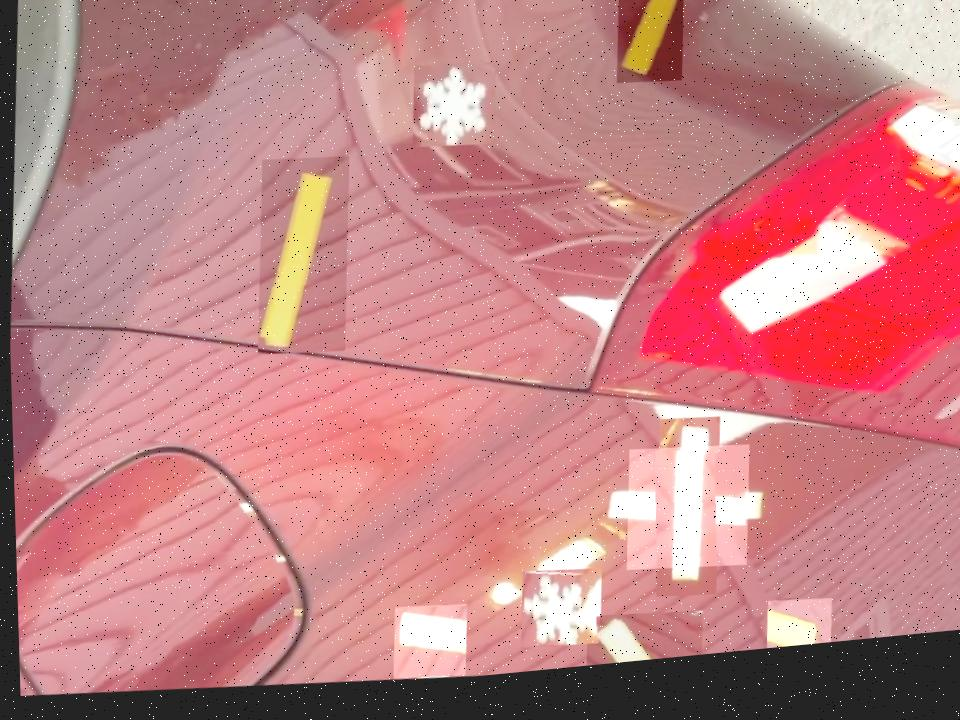dent: (410, 66, 498, 158), (517, 573, 599, 660)
scratch: (252, 157, 353, 363), (620, 453, 749, 588), (614, 0, 686, 99), (581, 618, 700, 677), (387, 609, 464, 690), (761, 610, 829, 664)
